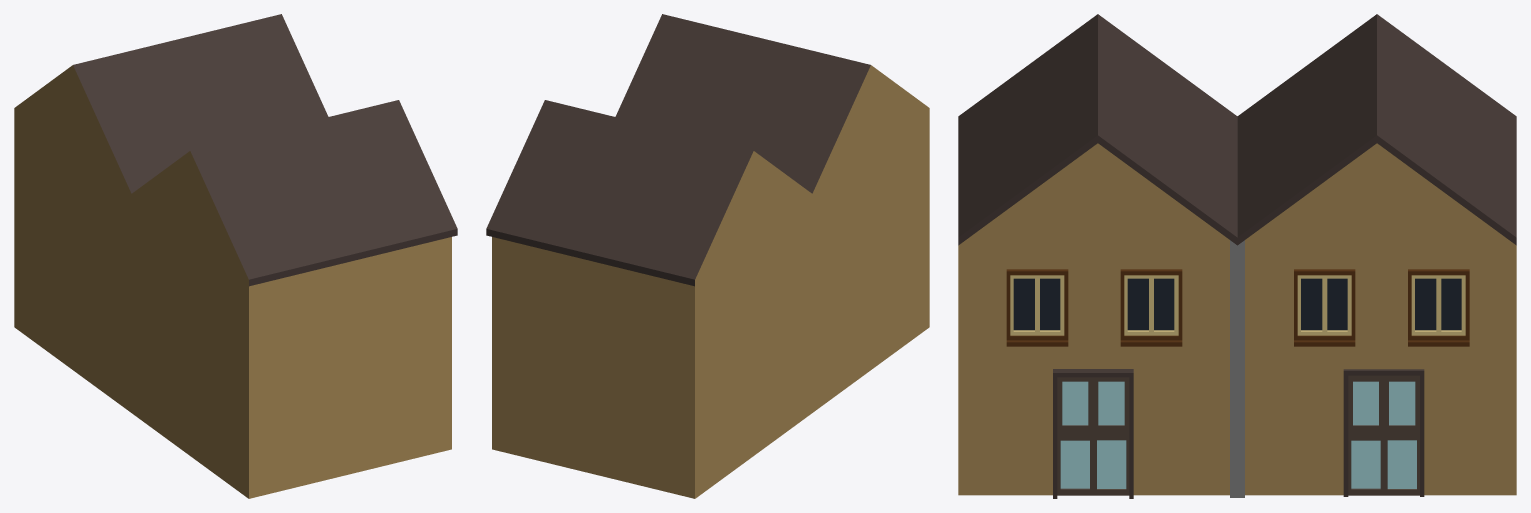
The model's file is Terrace House.fbx.
3 views of the same model, side by side, from view 1: azimuth 30°, elevation 25°; view 2: azimuth 150°, elevation 25°; view 3: azimuth 270°, elevation 25° (orthographic). The views are drawn at different scales.
Visible parts, largest first — view 1: Cube; view 2: Cube; view 3: Cube, Door.002, Door.001, Window.003, Window.002, Window, Window.001, Cube.001.
Boxes of the visible parts, bbox=[...] form: Cube: bbox=[14, 14, 457, 498]; Cube: bbox=[486, 14, 929, 498]; Cube: bbox=[958, 14, 1516, 498]; Door.002: bbox=[1348, 375, 1419, 495]; Door.001: bbox=[1057, 377, 1129, 495]; Window.003: bbox=[1120, 269, 1182, 346]; Window.002: bbox=[1006, 269, 1068, 346]; Window: bbox=[1408, 269, 1469, 346]; Window.001: bbox=[1294, 269, 1355, 346]; Cube.001: bbox=[1230, 240, 1244, 497].
Bounding box in the file's own units: 1245 × 1724 × 2400.
